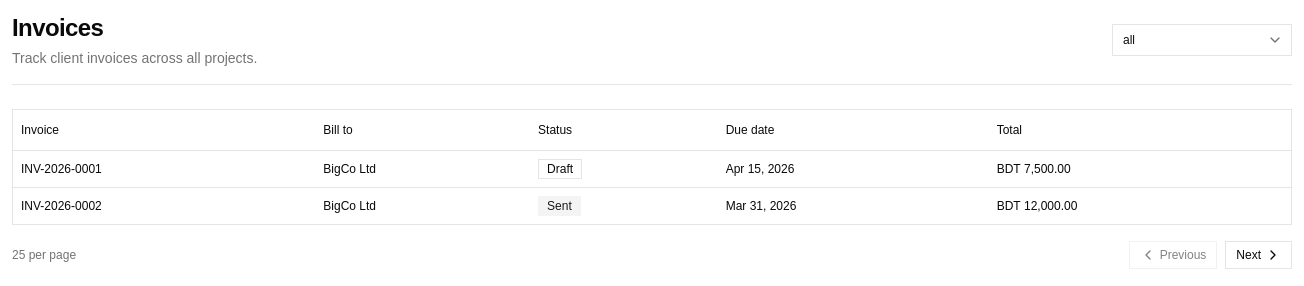
Test: InvoicesPage › paginates invoices with cursor controls
Check: the text "INV-2026-0001" is shown, box x1=13 y1=150 x2=315 y2=187
Check: the text "INV-2026-0004" is not shown
Click the button "Next" at coordinates (1259, 254), box x1=1225 y1=240 x2=1292 y2=268
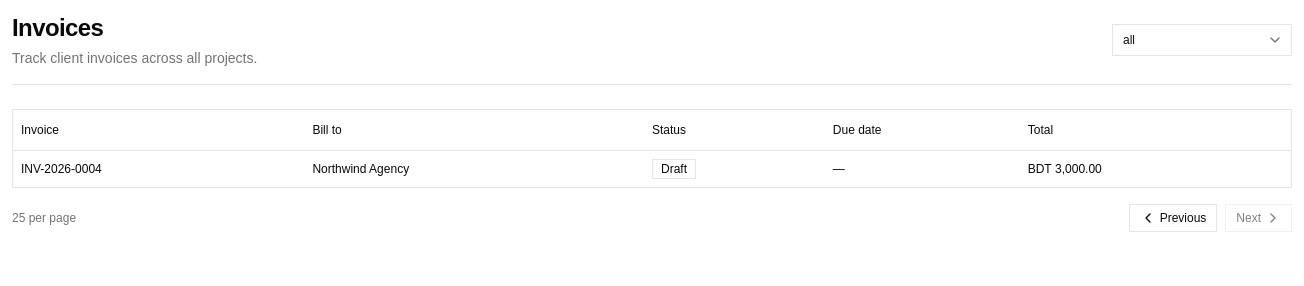
Check: the text "INV-2026-0004" is shown, box x1=13 y1=150 x2=304 y2=186
